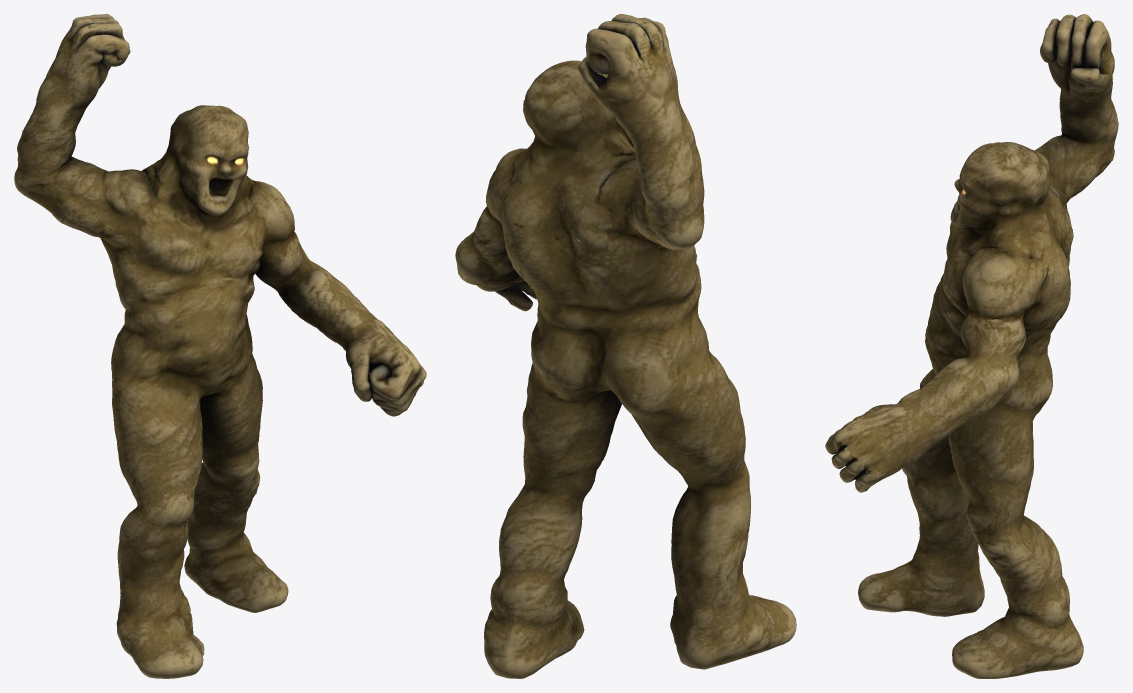
Rendered from MZ4250 - Clay Golem.glb.
The picture shows the model from 3 angles, left to right: view 1: azimuth 30°, elevation 25°; view 2: azimuth 150°, elevation 25°; view 3: azimuth 270°, elevation 25°; orthographic projection. The views are drawn at different scales.
Visible parts, largest first — view 1: Body.002; view 2: Body.002; view 3: Body.002.
Boxes of the visible parts, x1,y1,x2,y2 form: Body.002: (14, 14, 426, 678); Body.002: (455, 14, 796, 678); Body.002: (825, 14, 1118, 678).
Size of the model in its own units: 0.9663 by 1.84 by 0.8247.
Materials: 1 (1 with a texture image).
